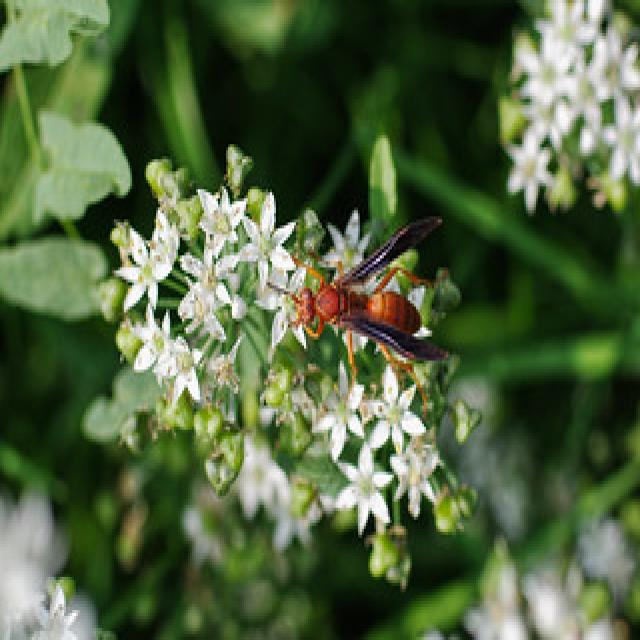Guepe: (265, 206, 485, 390)
